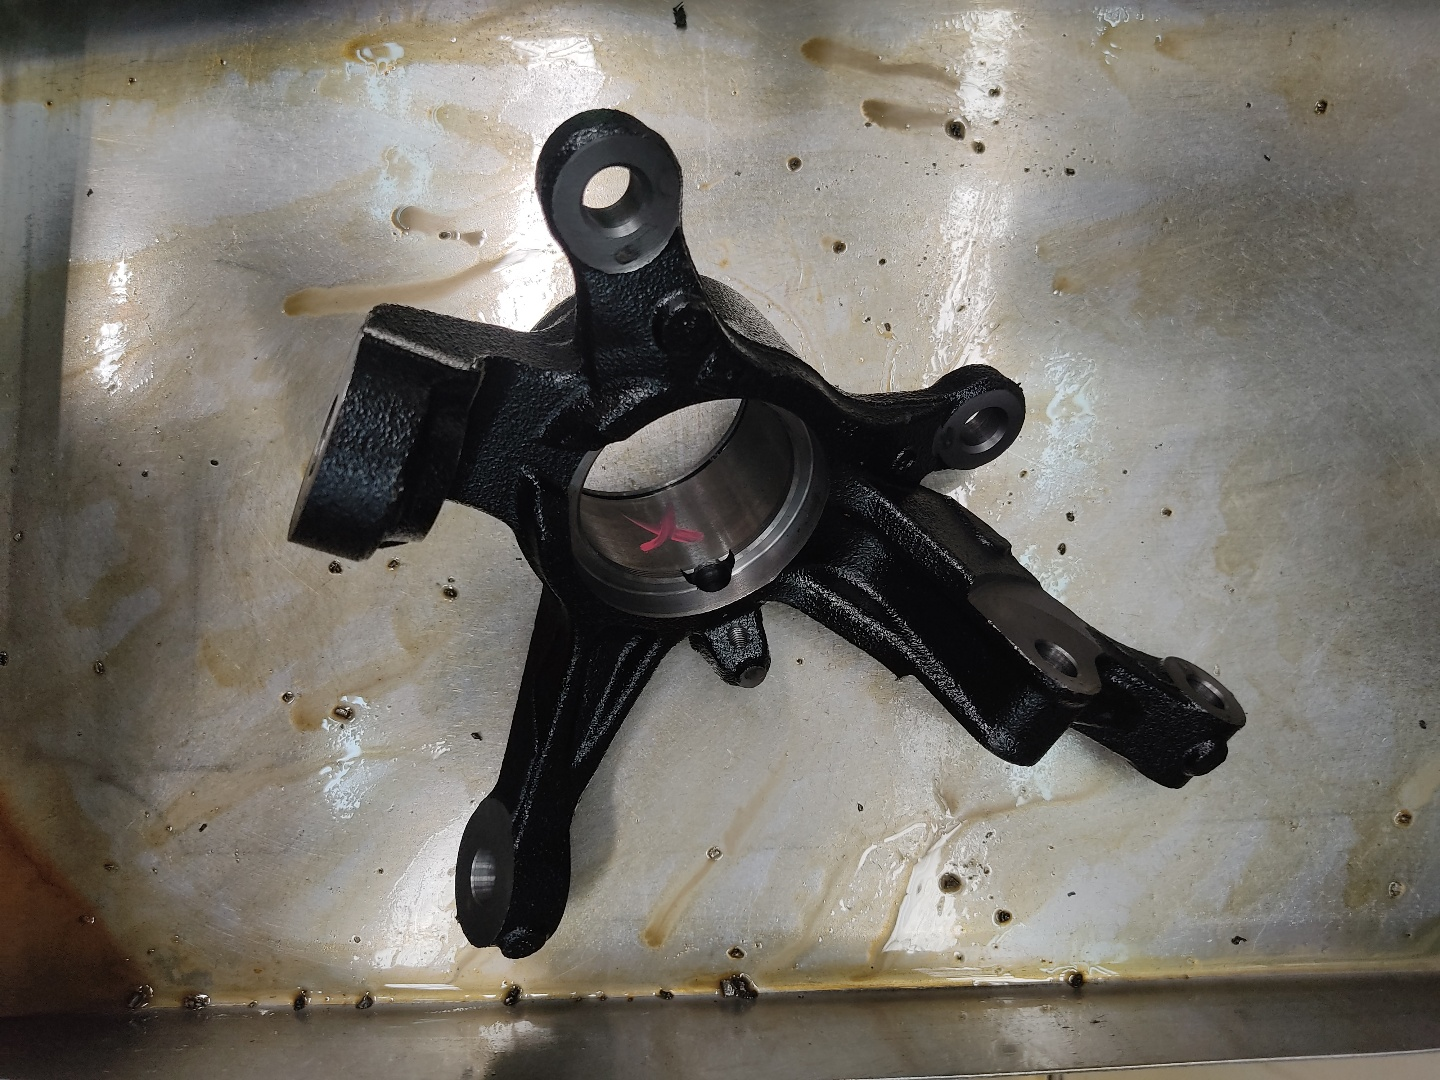abs-rh: (271, 96, 1257, 964)
